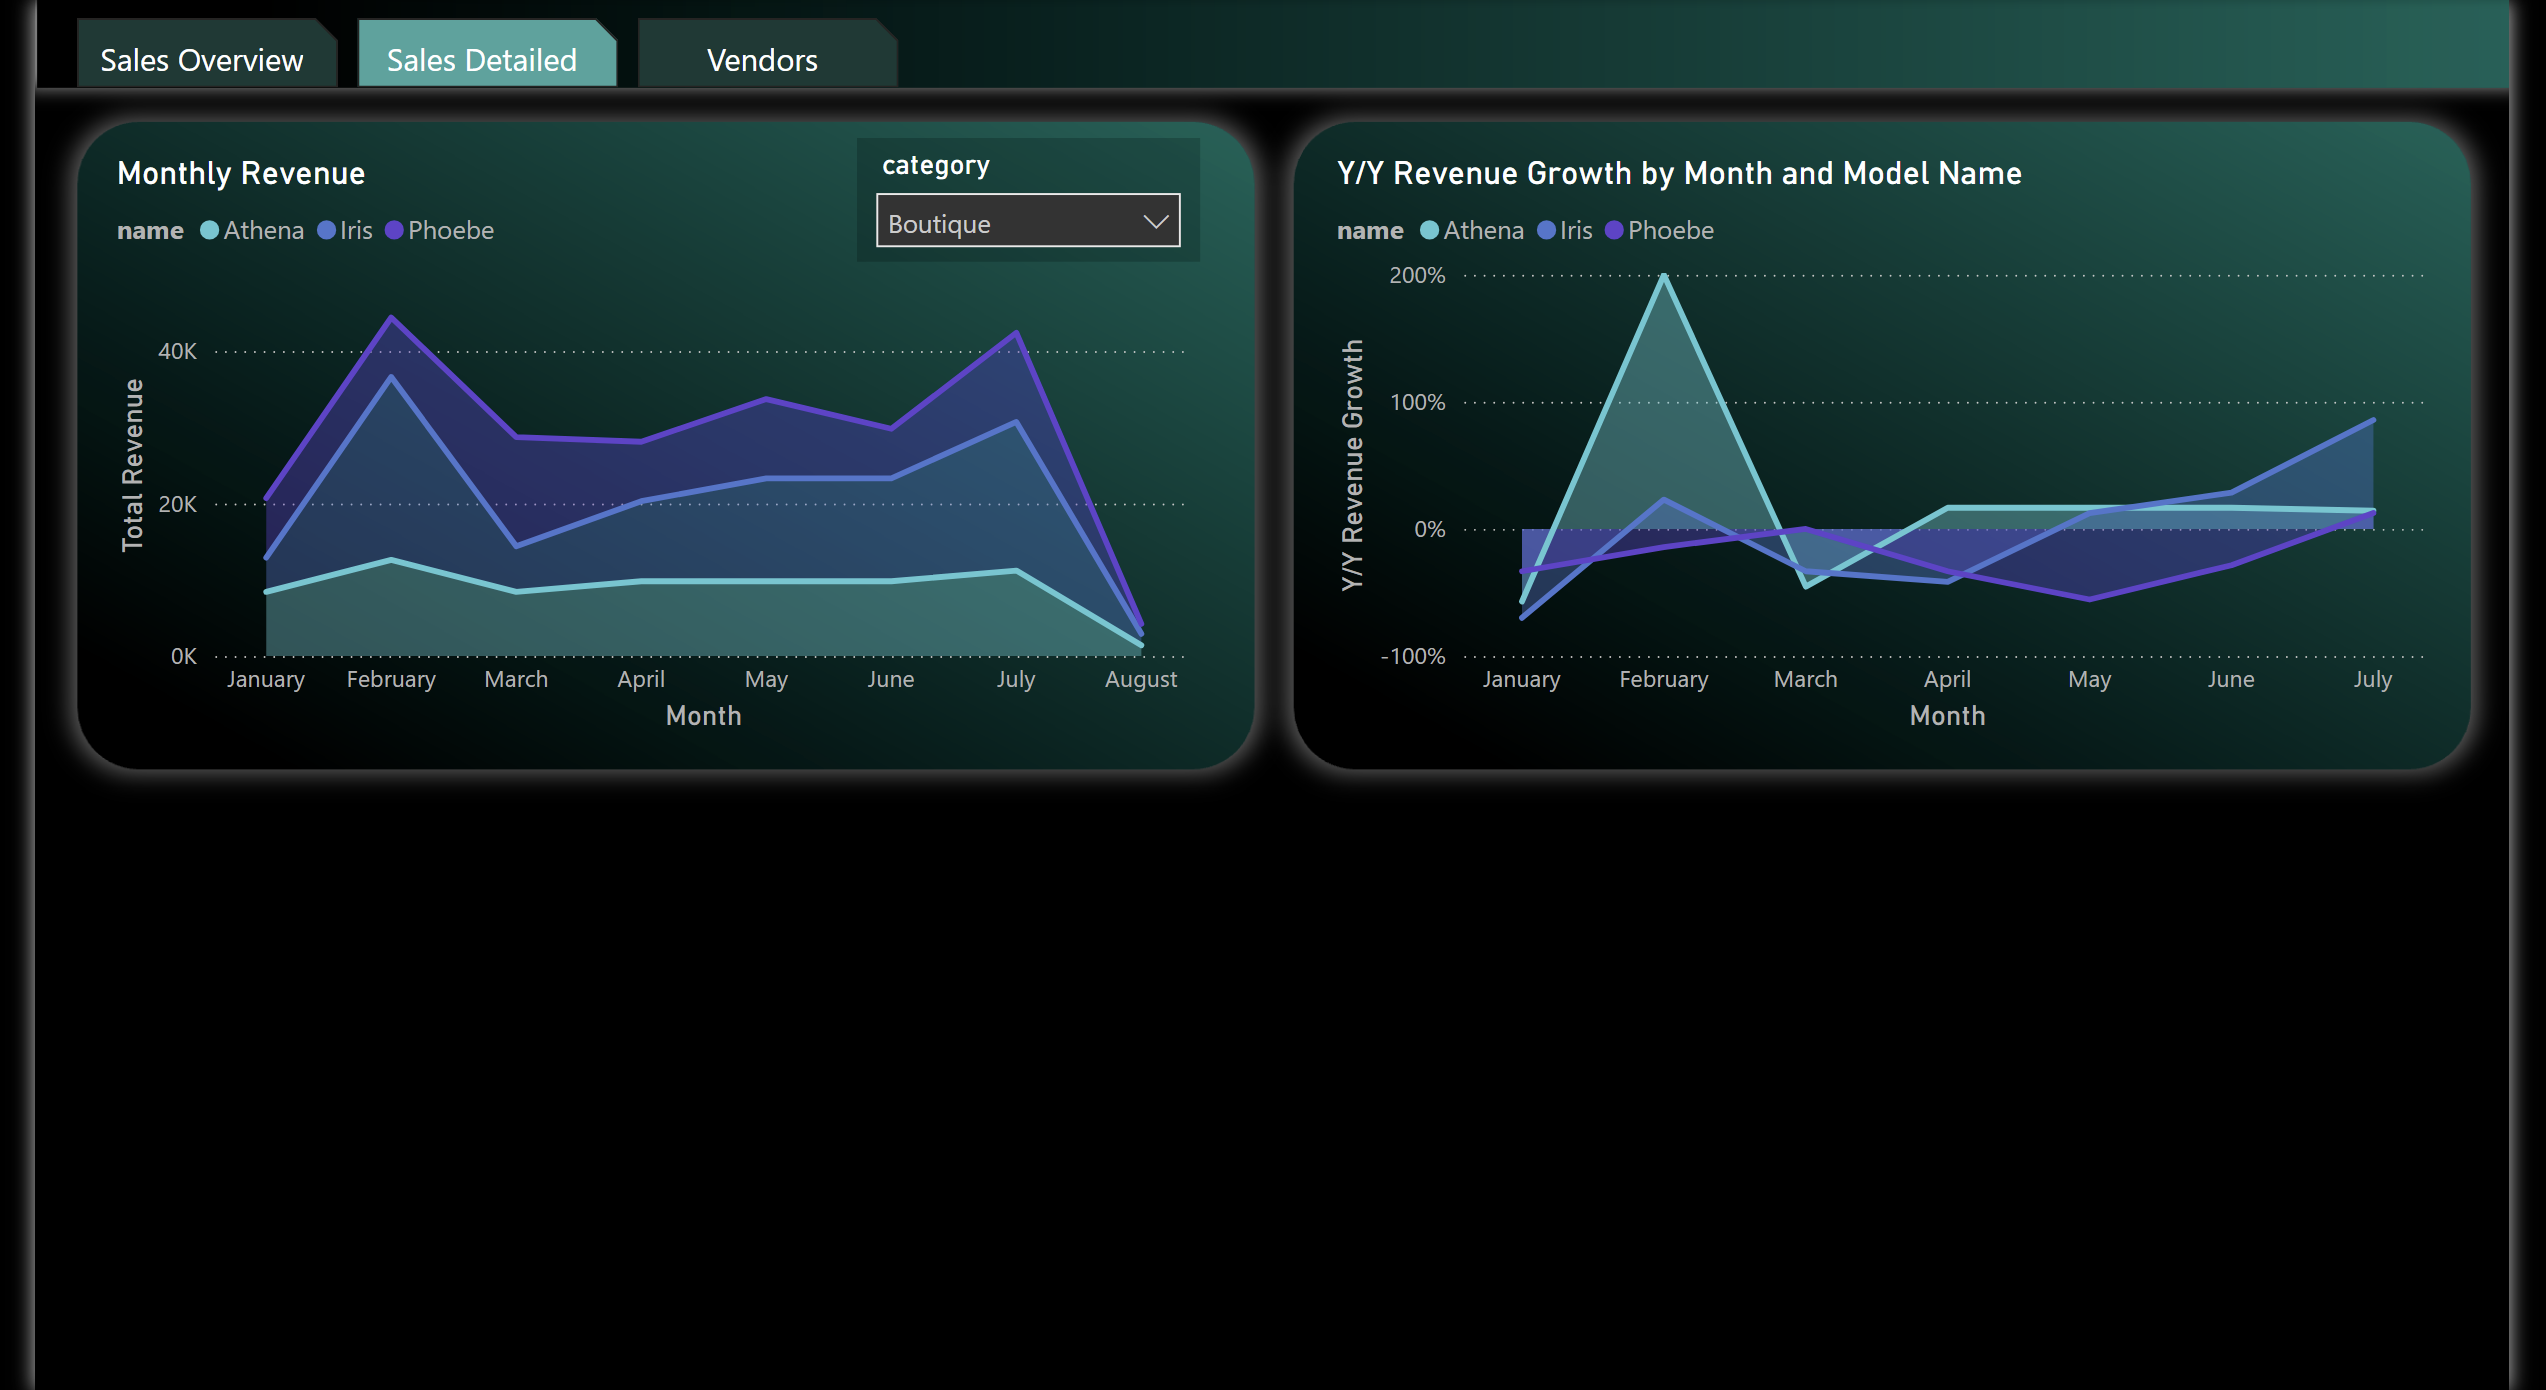

This screenshot's page, from the dashboard's own definition file:
{"tool":"powerbi","page":{"name":"Sales Detailed","canvas":[1280,720],"ordinal":1},"visuals":[{"type":"stackedAreaChart","title":"Monthly Revenue","fields":{"Category":["df_orders.date.Variation.Date Hierarchy.Month"],"Series":["df_models.name"],"Y":["df_orders.Total Revenue"]},"box":[36.8,80.1,565.9,303],"z":0},{"type":"slicer","fields":{"Values":["df_models.category"]},"box":[425.2,71.4,177.4,63.8],"z":1000},{"type":"areaChart","title":"Y/Y Revenue Growth by Month and Model Name","fields":{"Category":["df_orders.date.Variation.Date Hierarchy.Month"],"Series":["df_models.name"],"Y":["df_orders.YoY Revenue"]},"box":[668.7,80.1,575.6,303],"z":2000},{"type":"pageNavigator","box":[21.6,9.7,426.3,36.8],"z":3000}]}

Visuals, with their boxes on the page's 1280x720 design canvas (x1, y1, x2, y2). These are canvas units, not pixel positions in the 2546x1390 screenshot, which may show the page scaled, cropped or inside an application window:
"Monthly Revenue" stackedAreaChart: x1=37 y1=80 x2=603 y2=383
slicer - df_models.category: x1=425 y1=71 x2=603 y2=135
"Y/Y Revenue Growth by Month and Model Name" areaChart: x1=669 y1=80 x2=1244 y2=383
pageNavigator: x1=22 y1=10 x2=448 y2=46
